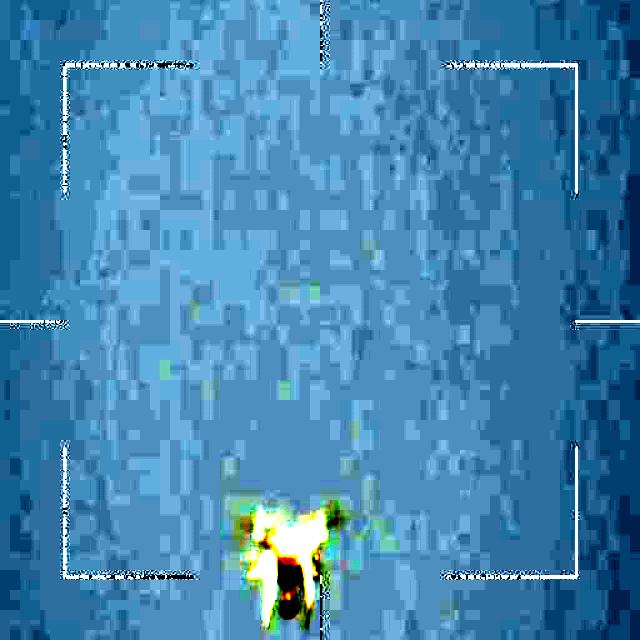bird: (234, 514, 331, 629)
